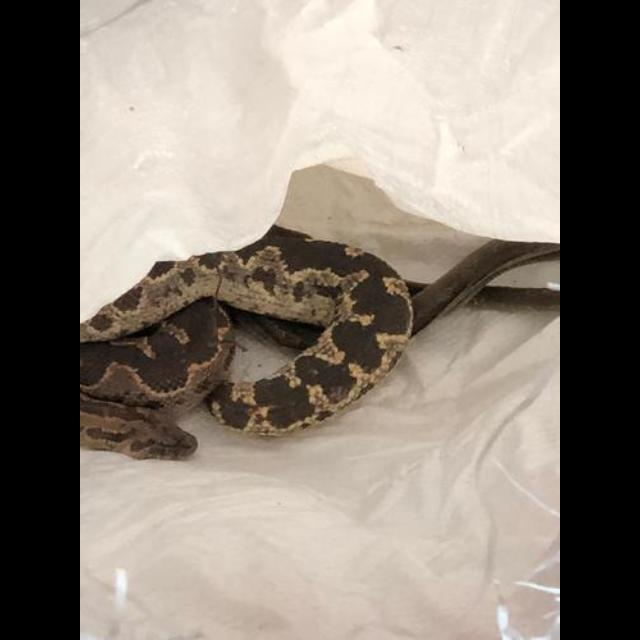snake: (80, 214, 560, 476)
